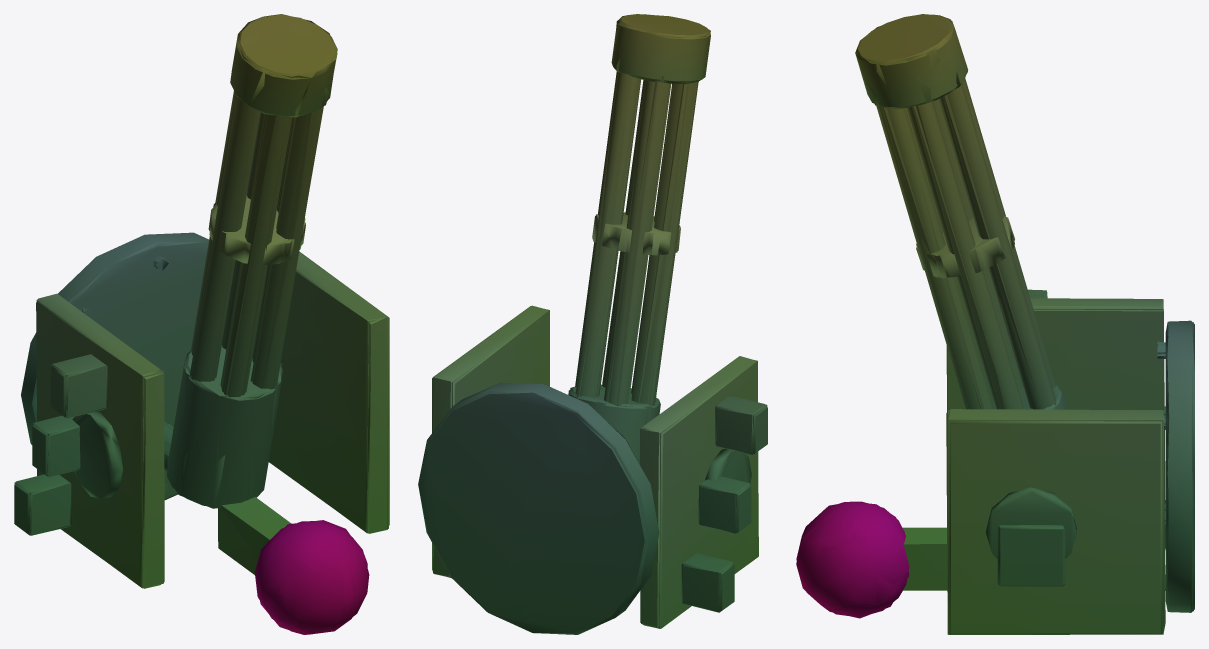
Rendered from RCLModule_skyguard_sam_longshot_sniper_camo_sponsons_LODs.fbx.
3 renders of one model, left to right at view 1: azimuth 30°, elevation 25°; view 2: azimuth 150°, elevation 25°; view 3: azimuth 270°, elevation 25°, orthographic. The views are drawn at different scales.
Visible parts, largest first — view 1: LOD1_RCLModule_skyguard_sam_longshot_sniper_camo_sponsons_Ba (×3), LOD2_RCLModule_skyguard_sam_longshot_sniper_camo_sponsons_Ba (×3); view 2: LOD1_RCLModule_skyguard_sam_longshot_sniper_camo_sponsons_Ba (×2), LOD2_RCLModule_skyguard_sam_longshot_sniper_camo_sponsons_Ba (×2); view 3: LOD1_RCLModule_skyguard_sam_longshot_sniper_camo_sponsons_Ba (×3), LOD2_RCLModule_skyguard_sam_longshot_sniper_camo_sponsons_Ba (×3).
Part boxes in pixels (x1,y1,x2,y2): LOD1_RCLModule_skyguard_sam_longshot_sniper_camo_sponsons_Ba (×3): (14,15,389,634); LOD2_RCLModule_skyguard_sam_longshot_sniper_camo_sponsons_Ba (×3): (14,14,388,633); LOD1_RCLModule_skyguard_sam_longshot_sniper_camo_sponsons_Ba (×2): (418,14,767,634); LOD2_RCLModule_skyguard_sam_longshot_sniper_camo_sponsons_Ba (×2): (419,14,767,634); LOD1_RCLModule_skyguard_sam_longshot_sniper_camo_sponsons_Ba (×3): (796,14,1194,634); LOD2_RCLModule_skyguard_sam_longshot_sniper_camo_sponsons_Ba (×3): (796,14,1193,634).
Bounding box in the file's own units: 29.4 × 52.99 × 32.72.
